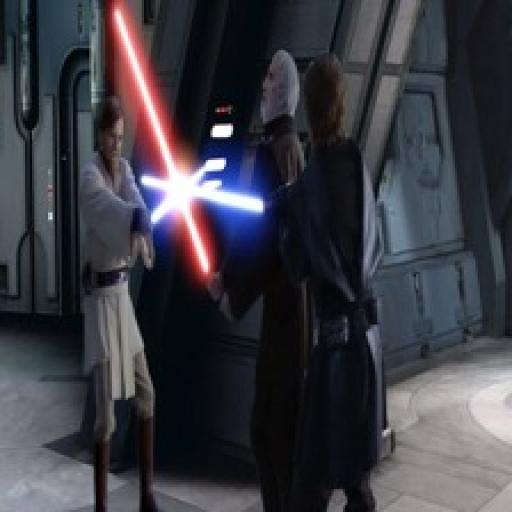human: (264, 61, 372, 512), (212, 33, 309, 512), (70, 99, 166, 512)
lightsaber: (140, 171, 280, 220), (138, 160, 206, 232)
sith saber: (116, 9, 232, 311)
